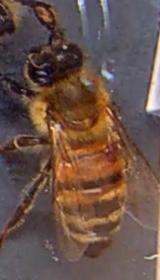varroa_mite: (96, 134, 124, 166)
